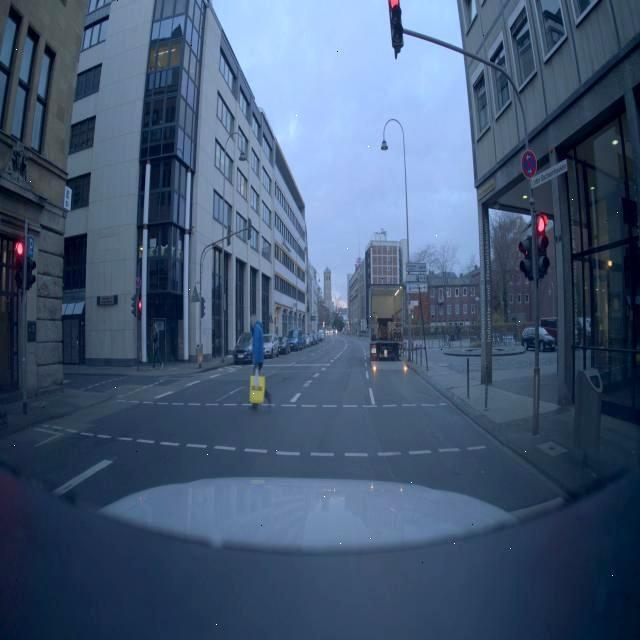Red: (514, 198, 560, 302), (379, 0, 423, 66), (8, 226, 38, 307)
